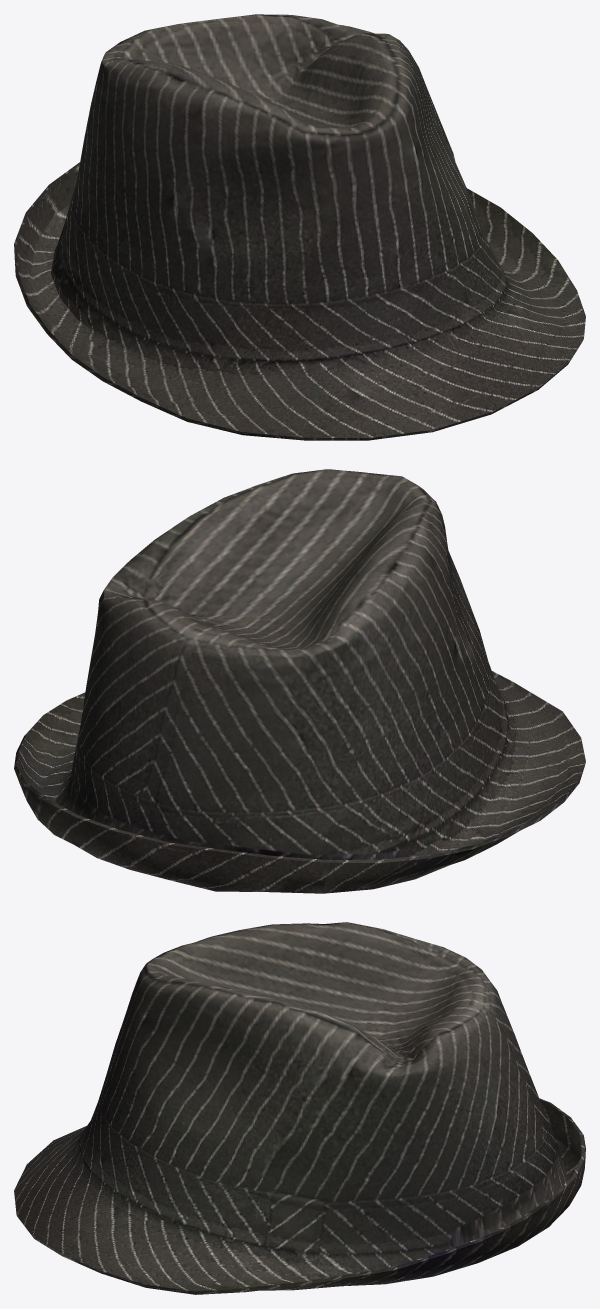
File: fathers_hat.glb
The picture shows the model from 3 angles, top to bottom: view 1: azimuth 30°, elevation 25°; view 2: azimuth 150°, elevation 25°; view 3: azimuth 270°, elevation 25°; orthographic projection. The views are drawn at different scales.
Parts seen in each view (by area): view 1: geo1; view 2: geo1; view 3: geo1.
Boxes of the visible parts, x1,y1,x2,y2 form: geo1: [14, 14, 585, 440]; geo1: [14, 469, 585, 893]; geo1: [14, 922, 585, 1294].
Size of the model in its own units: 0.00222 by 0.00119 by 0.00258.
Materials: 1 (1 with a texture image).
